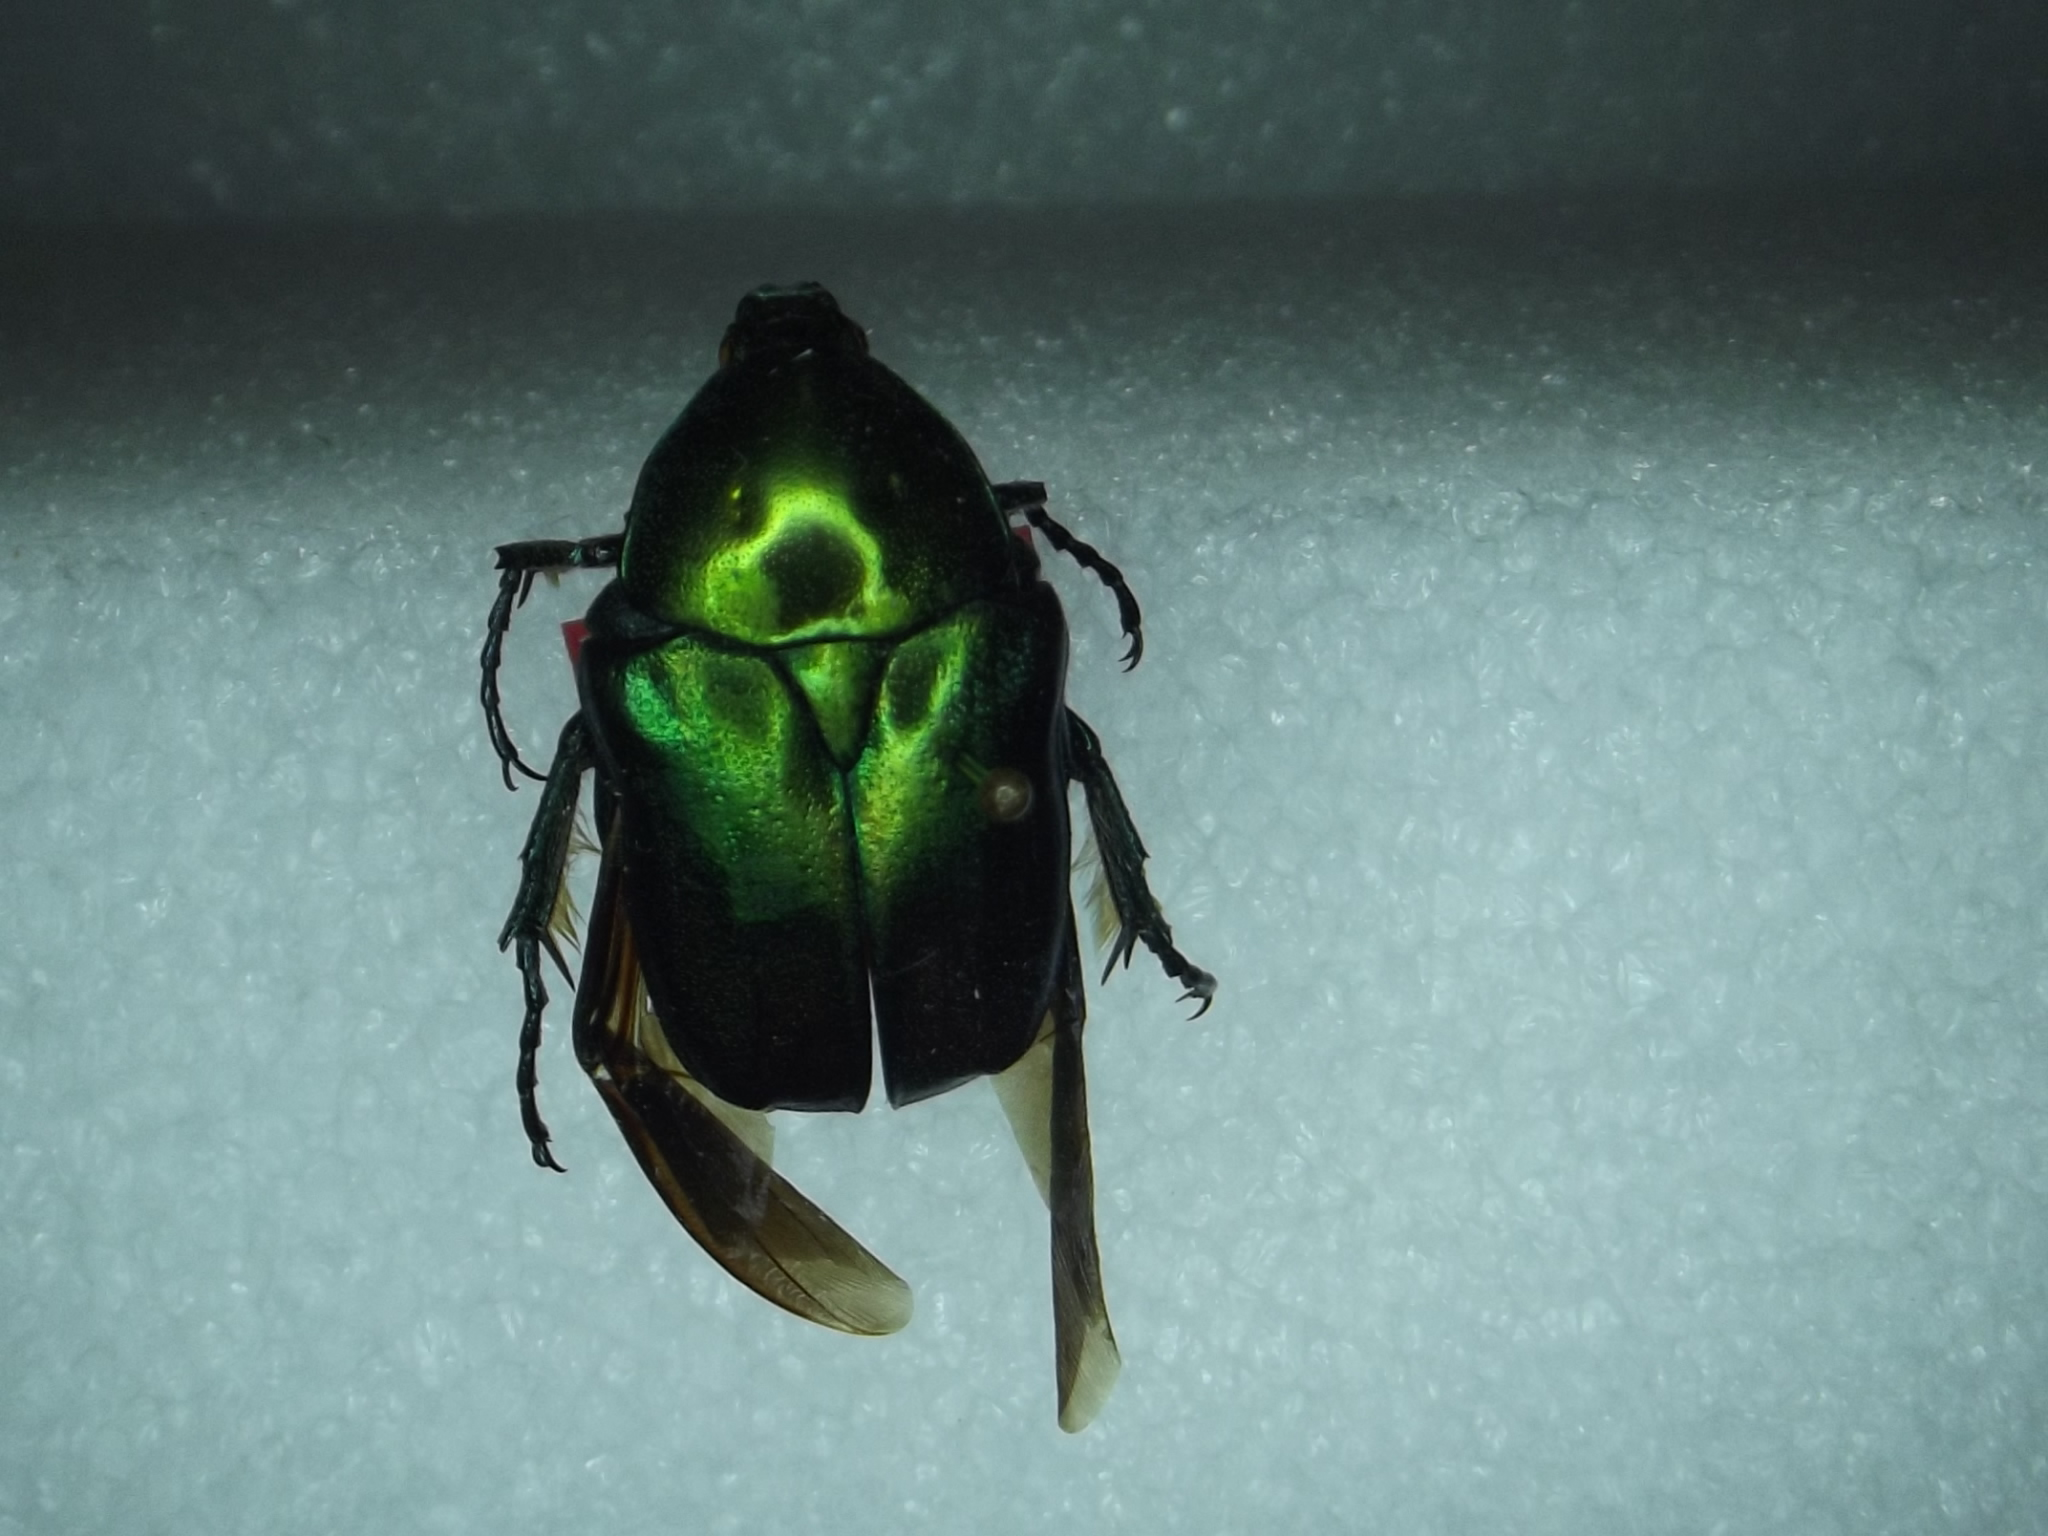Protaetia_besucheti: (427, 265, 1235, 1463)
